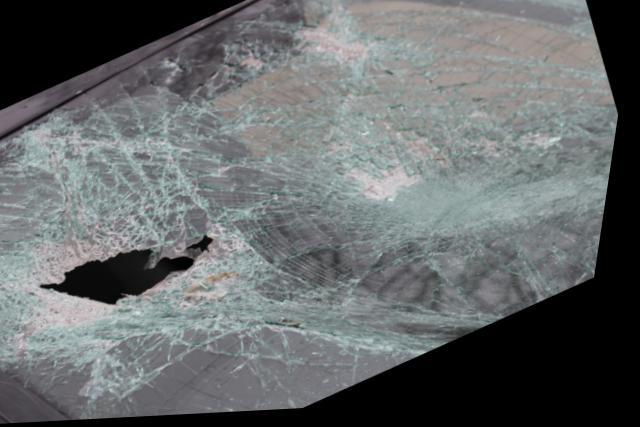glass shatter: (0, 0, 623, 421)
